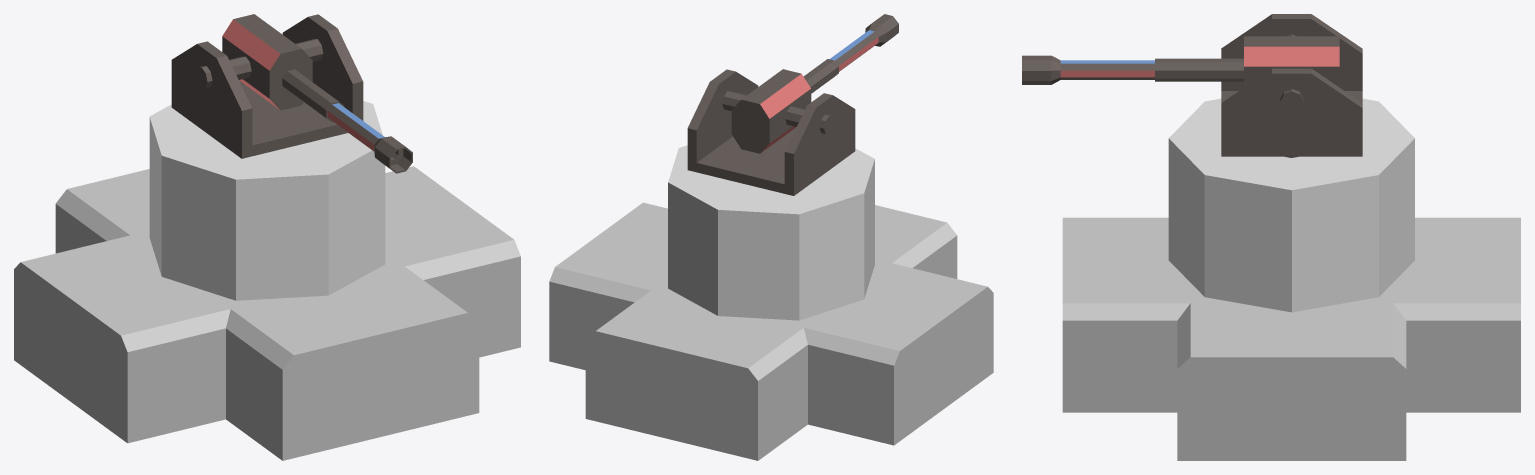
The model's file is GunTower.fbx.
The picture shows the model from 3 angles, left to right: view 1: azimuth 30°, elevation 25°; view 2: azimuth 150°, elevation 25°; view 3: azimuth 270°, elevation 25°; orthographic projection. The views are drawn at different scales.
Parts seen in each view (by area): view 1: TowerBase, CannonBase, CannonMount, Cannon, CanonAxel; view 2: TowerBase, CannonBase, CannonMount, Cannon, CanonAxel; view 3: TowerBase, CannonBase, CannonMount, Cannon.
Boxes of the visible parts, box(x1,y1,x2,y2) form: TowerBase: box(14, 166, 520, 460); CannonBase: box(149, 101, 385, 300); CannonMount: box(171, 14, 363, 158); Cannon: box(222, 14, 412, 173); CanonAxel: box(196, 39, 323, 88); TowerBase: box(549, 202, 993, 460); CannonBase: box(668, 145, 874, 320); CannonMount: box(687, 69, 855, 195); Cannon: box(731, 14, 898, 153); CanonAxel: box(722, 91, 833, 134); TowerBase: box(1062, 217, 1520, 460); CannonBase: box(1168, 98, 1414, 312); CannonMount: box(1221, 14, 1362, 157); Cannon: box(1022, 36, 1339, 87).
Bounding box in the file's own units: 200 × 155 × 218.
